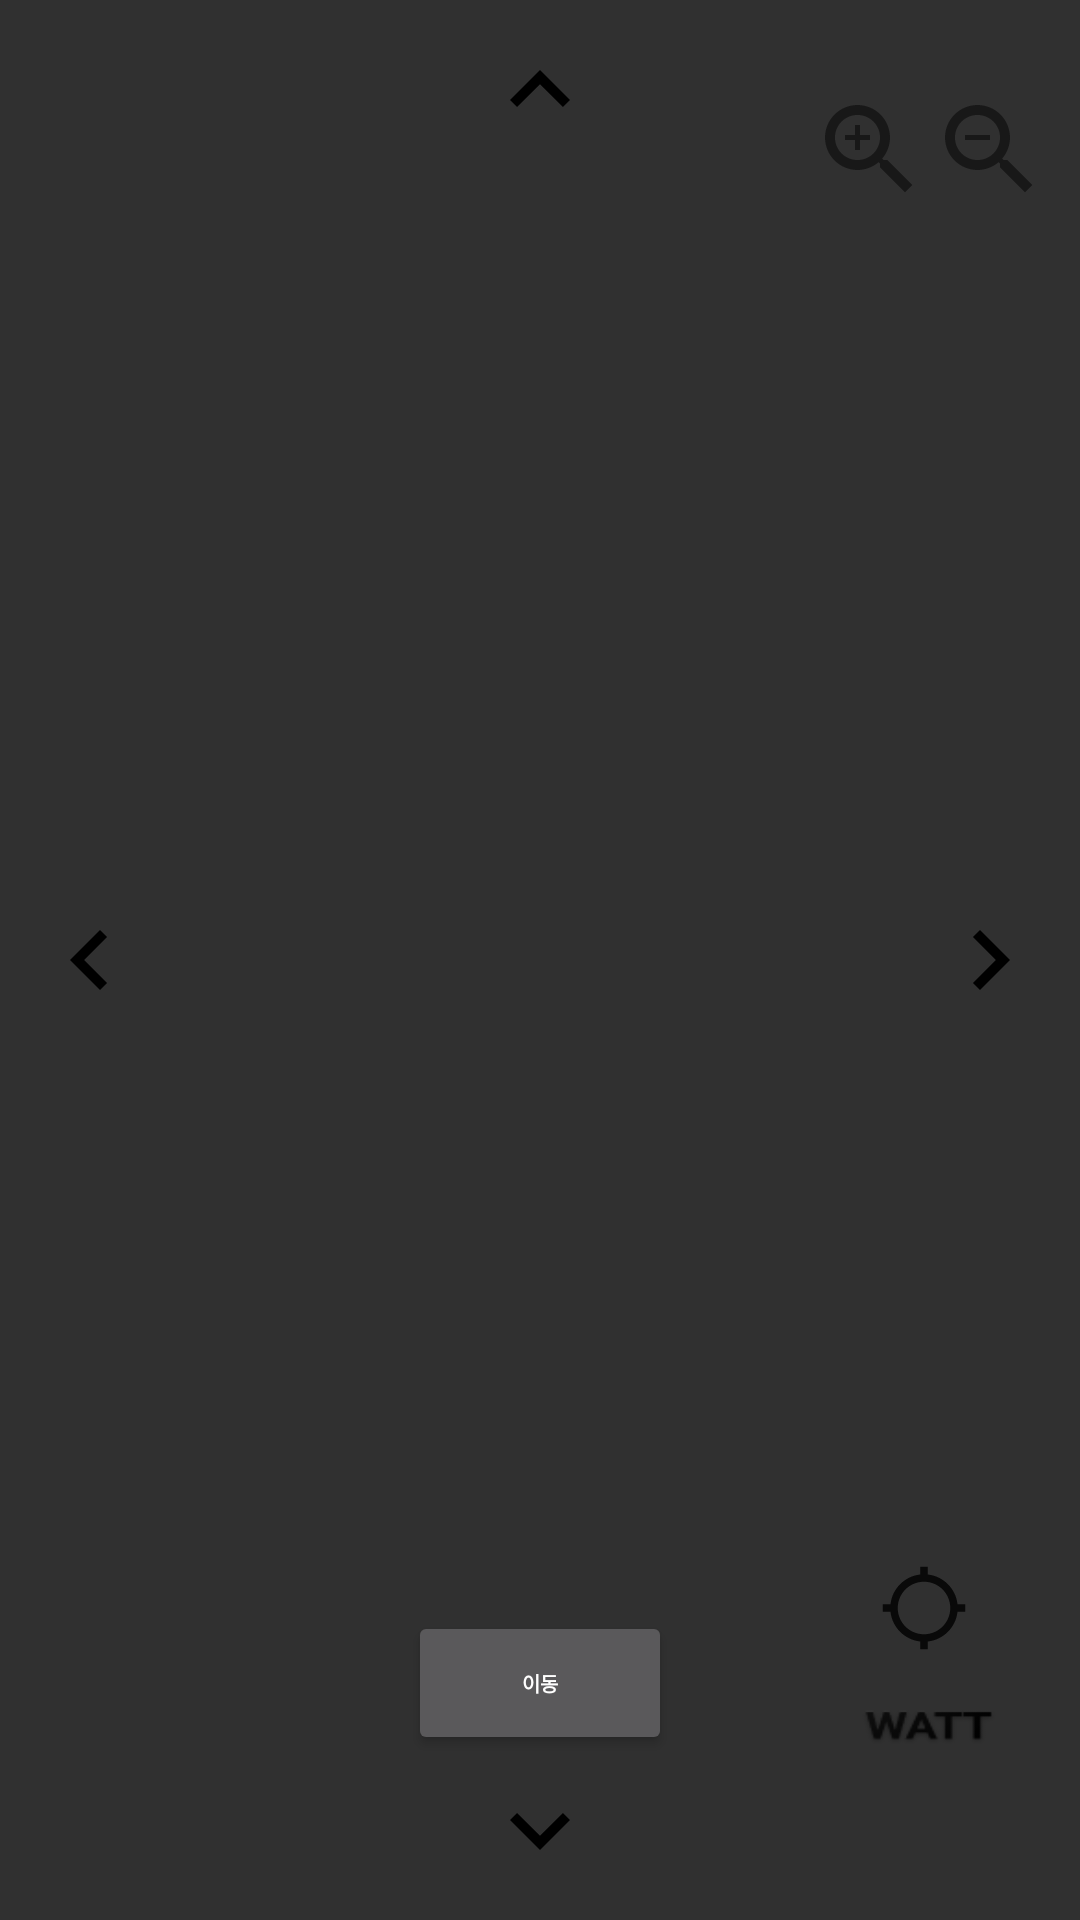

Icon click points for this 1080 × 1920 phone screenshot, format (x=x, y=y):
mapdown: (x=540, y=1831)
mapleft: (x=89, y=960)
mapright: (x=991, y=960)
mapup: (x=540, y=89)
